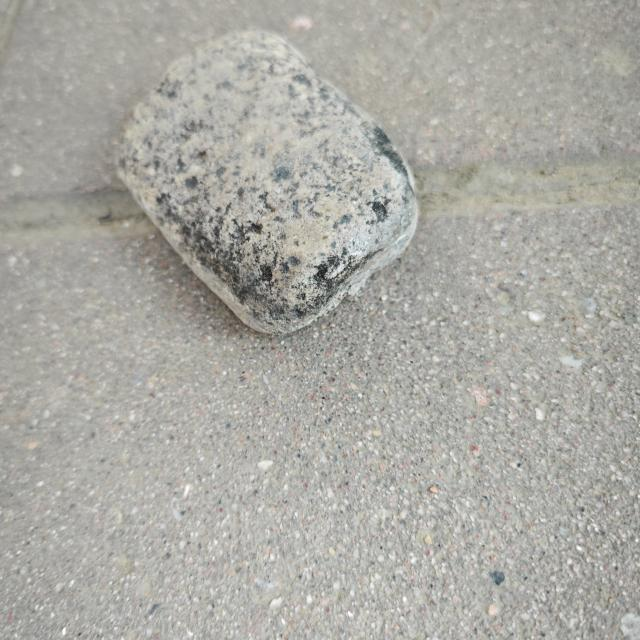-Other waste - pebble-: (116, 21, 421, 333)
